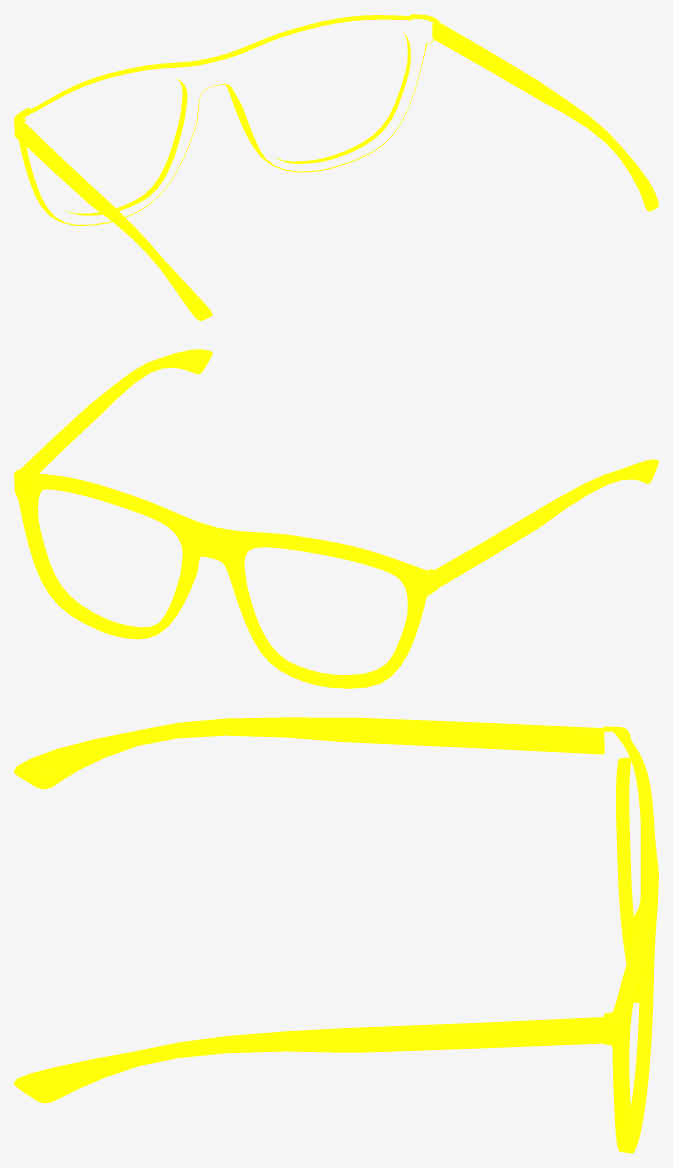
The picture shows the model from 3 angles, top to bottom: view 1: azimuth 30°, elevation 25°; view 2: azimuth 150°, elevation 25°; view 3: azimuth 270°, elevation 25°; orthographic projection. The views are drawn at different scales.
Parts seen in each view (by area): view 1: am_body; view 2: am_body; view 3: am_body.
Boxes of the visible parts, x1,y1,x2,y2 form: am_body: (14, 14, 658, 320); am_body: (14, 349, 658, 688); am_body: (14, 717, 658, 1153).
Bounding box in the file's own units: 16.26 × 4.9 × 13.72.
